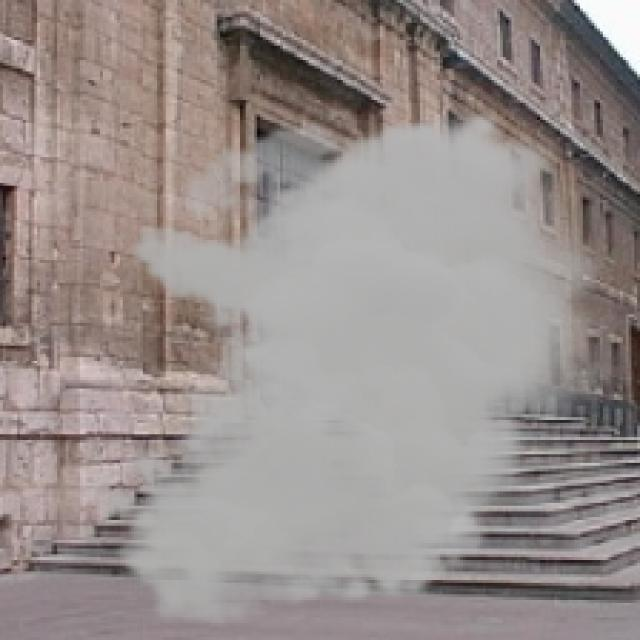smoke: (97, 106, 623, 628)
